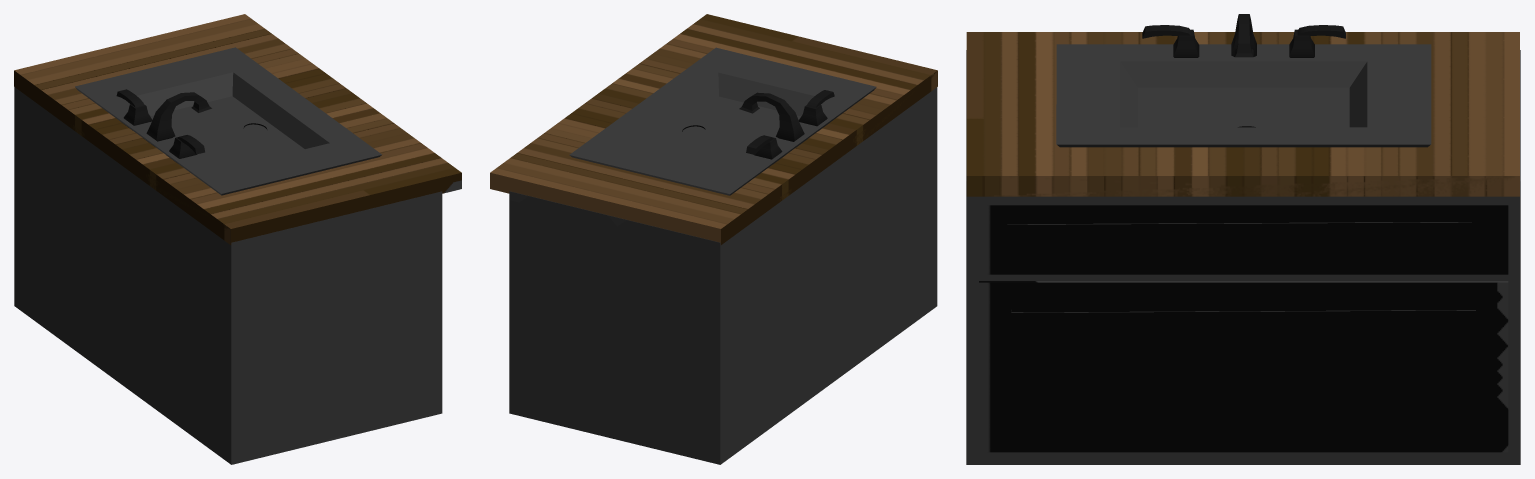
The model's file is CountertopSink.fbx.
The picture shows the model from 3 angles, left to right: view 1: azimuth 30°, elevation 25°; view 2: azimuth 150°, elevation 25°; view 3: azimuth 270°, elevation 25°; orthographic projection. The views are drawn at different scales.
Parts seen in each view (by area): view 1: Cube.002; view 2: Cube.002; view 3: Cube.002.
Boxes of the visible parts, left/top/right/bottom form: Cube.002: left=14, top=14, right=461, bottom=464; Cube.002: left=490, top=14, right=937, bottom=464; Cube.002: left=966, top=14, right=1520, bottom=464.
Bounding box in the file's own units: 262 × 299 × 426.
Materials: 3 (1 with a texture image).
